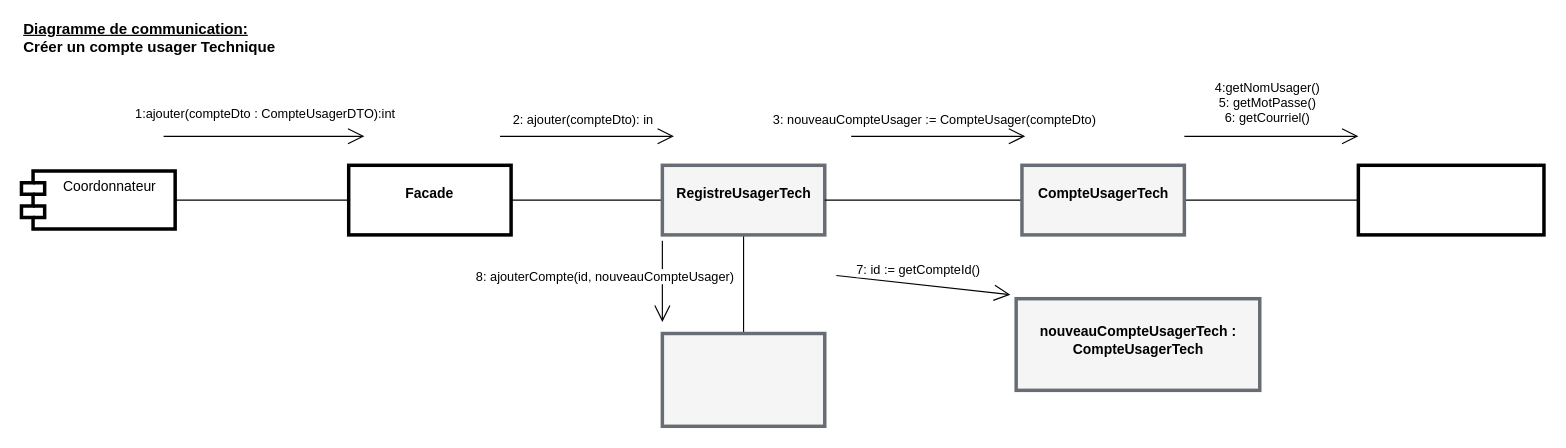
This 1566x448 diagram has some shape labels left out. The centre of each missing label's shape, as x and y in pixels:
"CompteUsagerTechDTO" goes at (x=1450, y=199).
"RegistreUsagerTech : TreeMap<Integer, CompteUsagerTech>" goes at (x=743, y=379).
